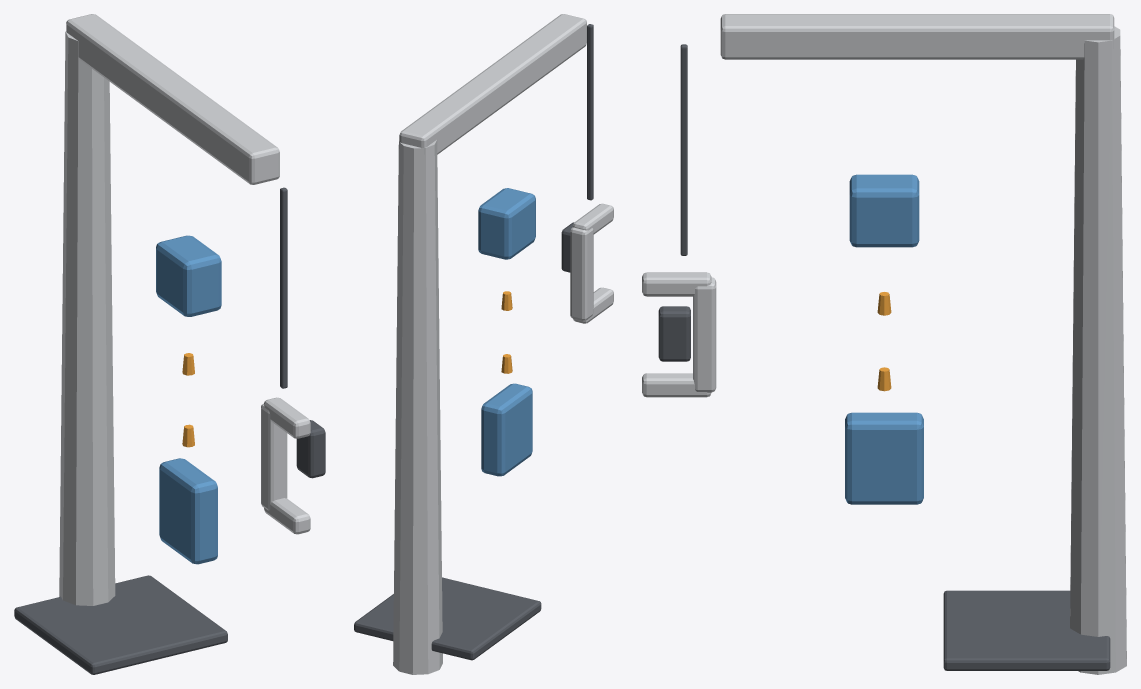
Rendered from btf-weld-gun.glb.
3 renders of one model, left to right at view 1: azimuth 30°, elevation 25°; view 2: azimuth 150°, elevation 25°; view 3: azimuth 270°, elevation 25°, orthographic. The views are drawn at different scales.
Parts seen in each view (by area): view 1: 095-spot-weld-gun-on-balancer/1, 095-spot-weld-gun-on-balancer/0, 095-spot-weld-gun-on-balancer/2, 095-spot-weld-gun-on-balancer/3; view 2: 095-spot-weld-gun-on-balancer/1, 095-spot-weld-gun-on-balancer/0, 095-spot-weld-gun-on-balancer/2, 095-spot-weld-gun-on-balancer/3; view 3: 095-spot-weld-gun-on-balancer/1, 095-spot-weld-gun-on-balancer/0, 095-spot-weld-gun-on-balancer/2.
Part boxes in pixels (left/top/right/bottom): 095-spot-weld-gun-on-balancer/1: left=59, top=14, right=310, bottom=605; 095-spot-weld-gun-on-balancer/0: left=14, top=187, right=325, bottom=674; 095-spot-weld-gun-on-balancer/2: left=156, top=235, right=221, bottom=564; 095-spot-weld-gun-on-balancer/3: left=182, top=353, right=194, bottom=447; 095-spot-weld-gun-on-balancer/1: left=393, top=14, right=613, bottom=674; 095-spot-weld-gun-on-balancer/0: left=354, top=24, right=593, bottom=660; 095-spot-weld-gun-on-balancer/2: left=478, top=188, right=535, bottom=476; 095-spot-weld-gun-on-balancer/3: left=501, top=291, right=512, bottom=373; 095-spot-weld-gun-on-balancer/1: left=642, top=14, right=1126, bottom=674; 095-spot-weld-gun-on-balancer/0: left=658, top=44, right=1110, bottom=670; 095-spot-weld-gun-on-balancer/2: left=845, top=174, right=923, bottom=504.
Bounding box in the file's own units: 23589 × 100267 × 68599.
